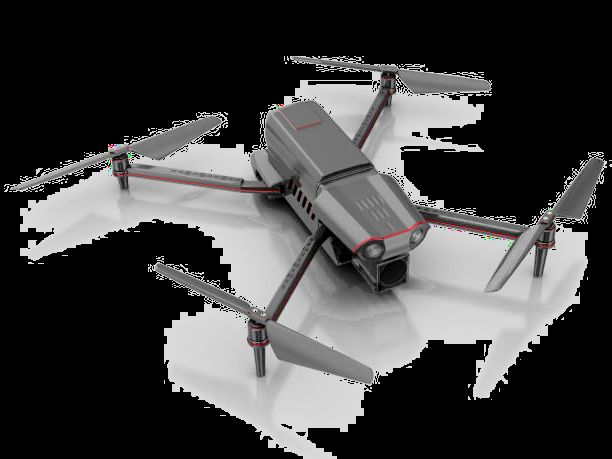Drone: (6, 50, 609, 389)
